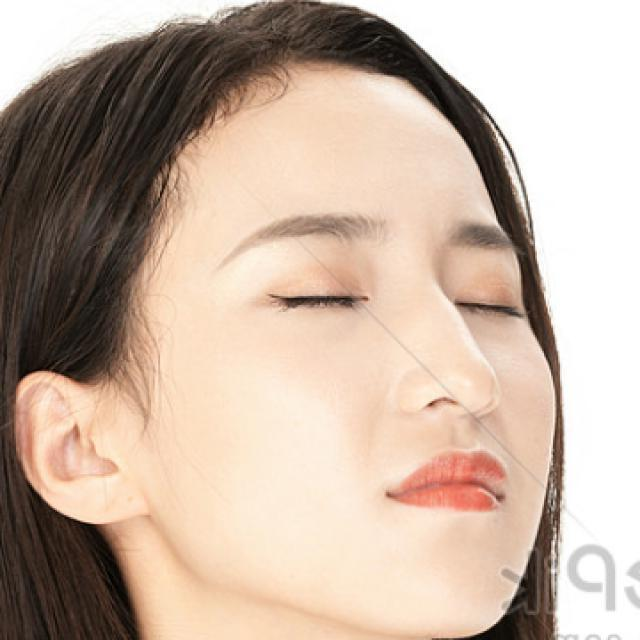close: (222, 200, 392, 330), (437, 206, 538, 337)
